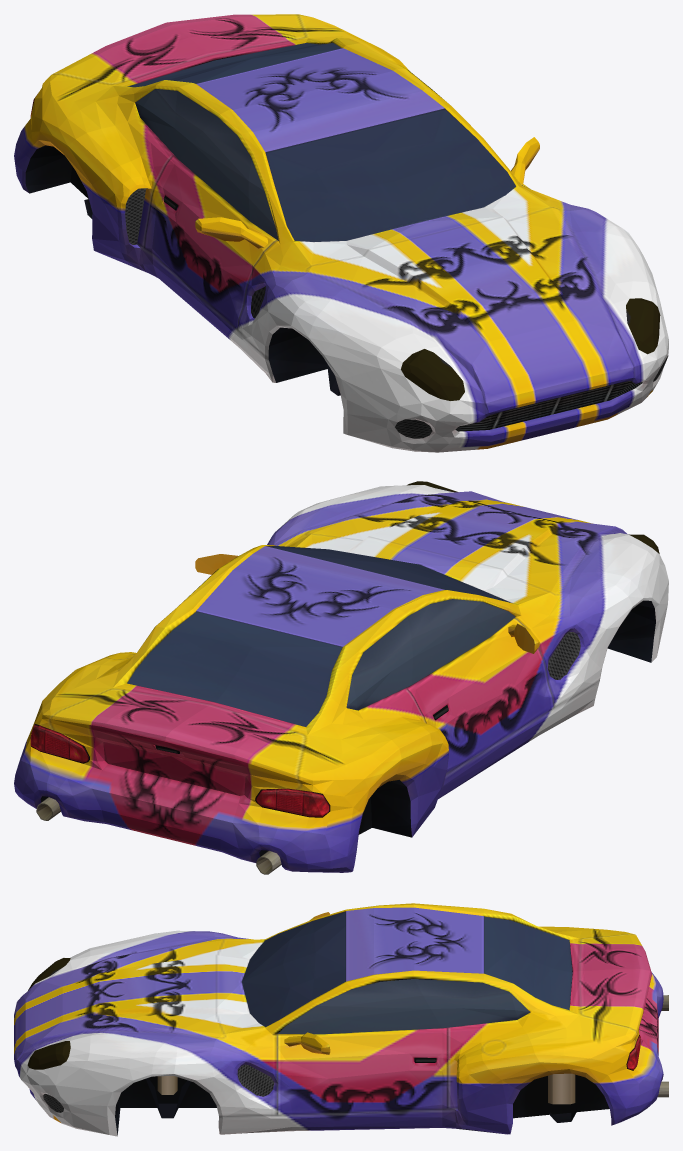
File: AM_Body.obj
The picture shows the model from 3 angles, top to bottom: view 1: azimuth 30°, elevation 25°; view 2: azimuth 150°, elevation 25°; view 3: azimuth 270°, elevation 25°; orthographic projection. The views are drawn at different scales.
Size of the model in its own units: 36.23 by 17.82 by 74.52.
Materials: 3 (3 with a texture image).
